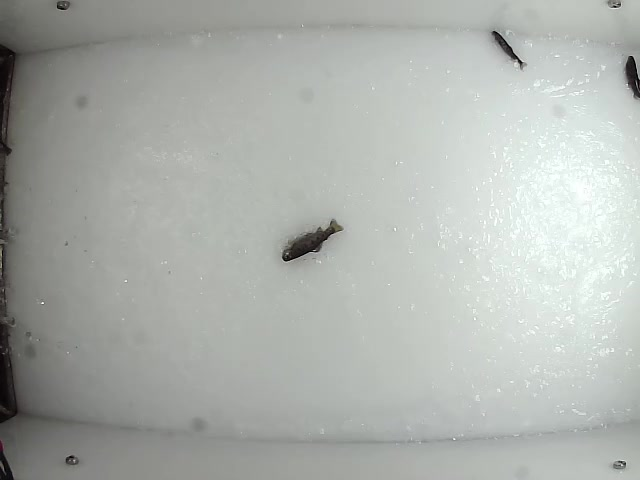fish: (279, 215, 345, 263), (489, 28, 532, 72), (622, 54, 640, 102)
